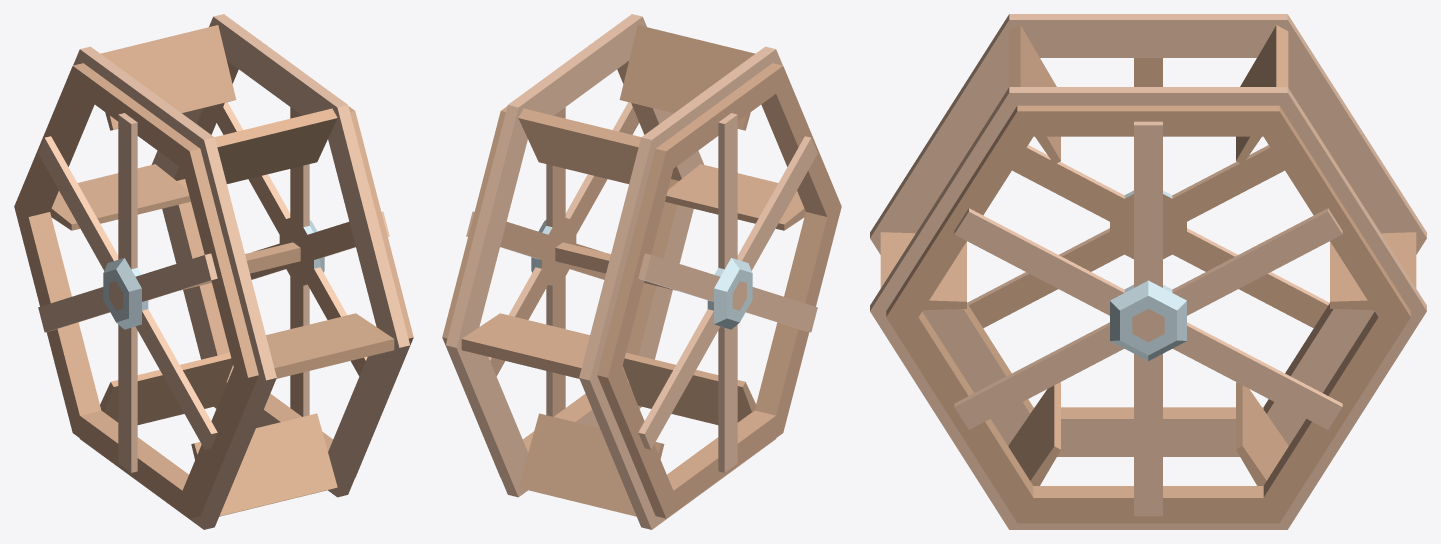
3 views of the same model, side by side, from view 1: azimuth 30°, elevation 25°; view 2: azimuth 150°, elevation 25°; view 3: azimuth 270°, elevation 25° (orthographic). The views are drawn at different scales.
Parts seen in each view (by area): view 1: watermillWide, paddle (×6); view 2: watermillWide, paddle (×6); view 3: watermillWide, paddle (×6).
Boxes of the visible parts, x1,y1,x2,y2 form: watermillWide: (14, 14, 413, 529); paddle (×6): (50, 25, 394, 516); watermillWide: (442, 14, 841, 529); paddle (×6): (461, 25, 805, 516); watermillWide: (870, 14, 1426, 529); paddle (×6): (880, 25, 1416, 485).
Size of the model in its own units: 0.91 by 1.73 by 2.
